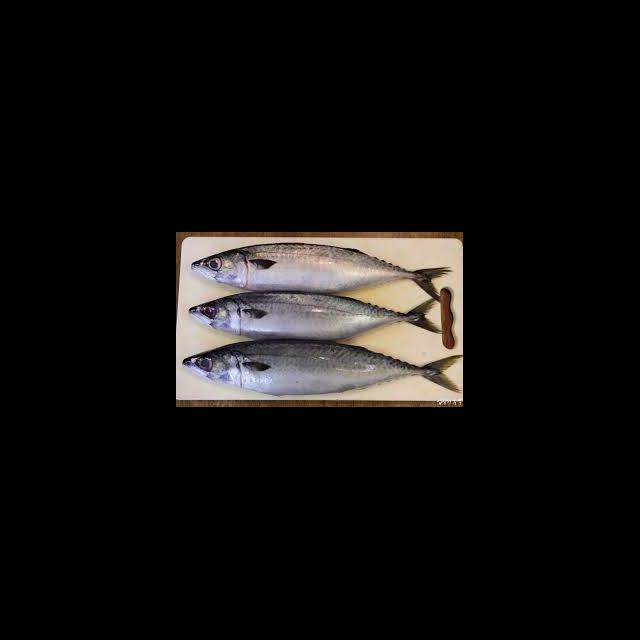fish: (184, 342, 461, 396), (192, 244, 450, 301), (190, 292, 442, 341)
